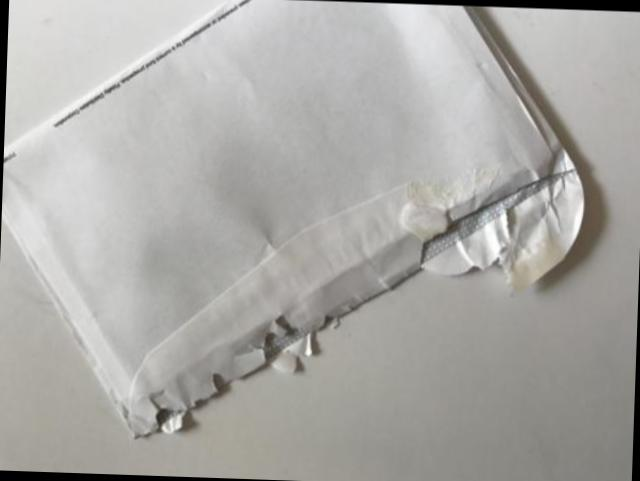cardboard paper: (1, 0, 580, 433)
